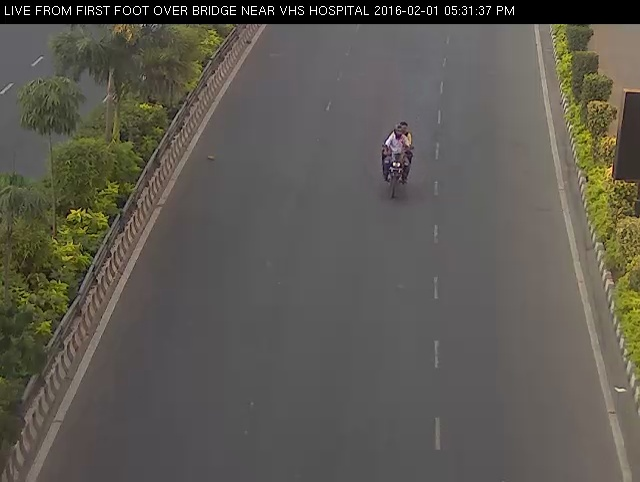Person: (374, 109, 417, 210)
